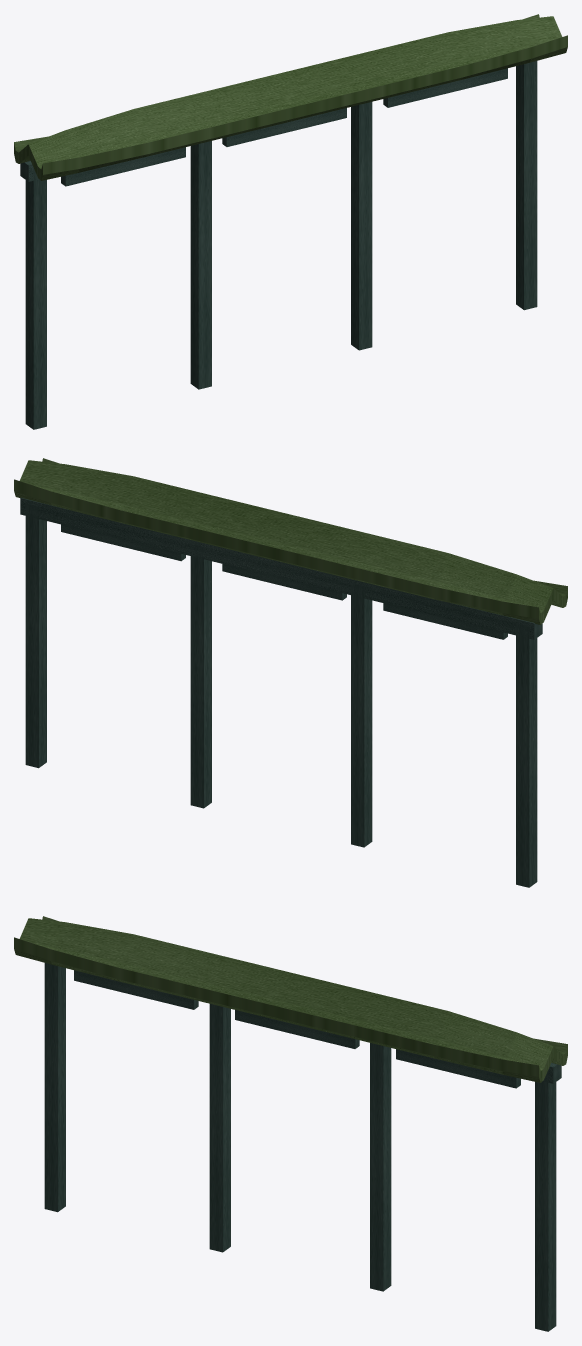
3 renders of one model, top to bottom at view 1: azimuth 30°, elevation 25°; view 2: azimuth 150°, elevation 25°; view 3: azimuth 330°, elevation 25°, orthographic.
Parts seen in each view (by area): view 1: garrison_part_0001, garrison_part_0000, garrison_part_0002; view 2: garrison_part_0001, garrison_part_0000, garrison_part_0002; view 3: garrison_part_0001, garrison_part_0000, garrison_part_0002.
Part boxes in pixels (bbox=[...]): garrison_part_0001: bbox=[14, 14, 567, 181]; garrison_part_0000: bbox=[25, 61, 537, 429]; garrison_part_0002: bbox=[61, 68, 507, 186]; garrison_part_0001: bbox=[14, 458, 567, 639]; garrison_part_0000: bbox=[25, 503, 537, 887]; garrison_part_0002: bbox=[61, 524, 507, 639]; garrison_part_0001: bbox=[14, 916, 567, 1083]; garrison_part_0000: bbox=[44, 963, 556, 1331]; garrison_part_0002: bbox=[74, 970, 520, 1088].
Bounding box in the file's own units: 668 × 367 × 64.
